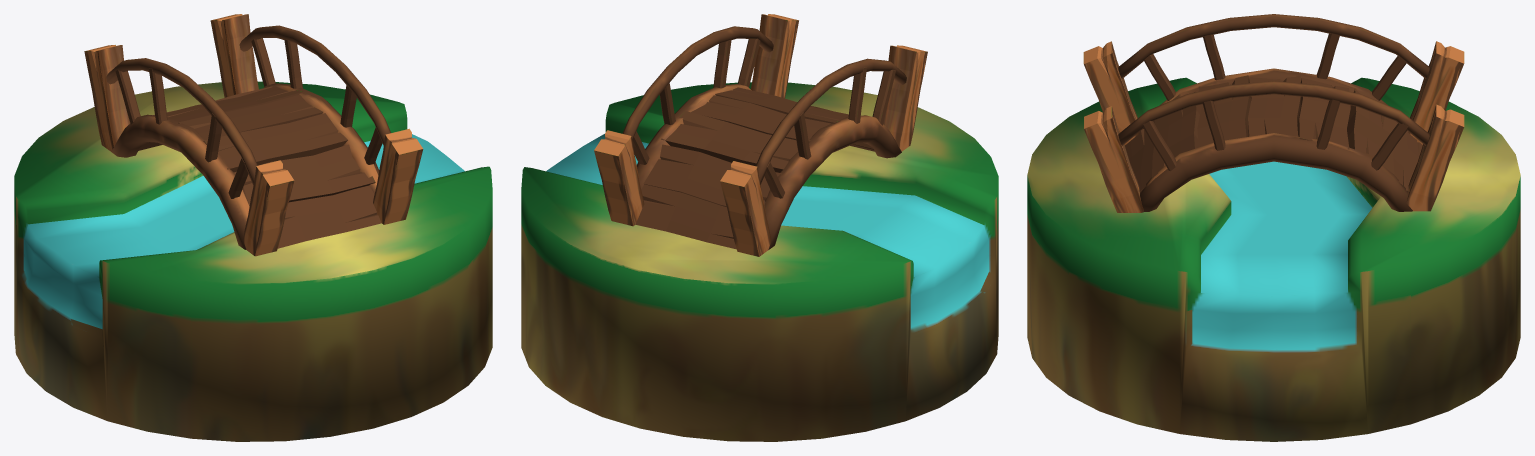
File: handpaint.fbx
The picture shows the model from 3 angles, left to right: view 1: azimuth 30°, elevation 25°; view 2: azimuth 150°, elevation 25°; view 3: azimuth 270°, elevation 25°; orthographic projection. The views are drawn at different scales.
Parts seen in each view (by area): view 1: Cylinder, Cube.021, Cube.022, Cube.008; view 2: Cylinder, Cube.021, Cube.022, Cube.008; view 3: Cylinder, Cube.008, Cube.021, Cube.022.
Part boxes in pixels (x1,y1,x2,y2): Cylinder: [14, 81, 492, 441]; Cube.021: [84, 45, 294, 256]; Cube.022: [138, 85, 381, 248]; Cube.008: [210, 14, 423, 224]; Cylinder: [521, 82, 998, 441]; Cube.021: [720, 45, 927, 256]; Cube.022: [635, 87, 874, 249]; Cube.008: [594, 14, 798, 226]; Cylinder: [1027, 77, 1520, 441]; Cube.008: [1084, 81, 1464, 212]; Cube.021: [1083, 14, 1464, 145]; Cube.022: [1125, 75, 1422, 192].
Bounding box in the file's own units: 400 × 258 × 400.
2 materials, 2 textured.
